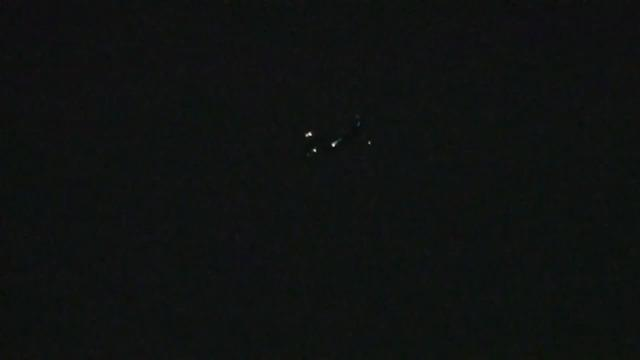Plane: (298, 109, 389, 161)
